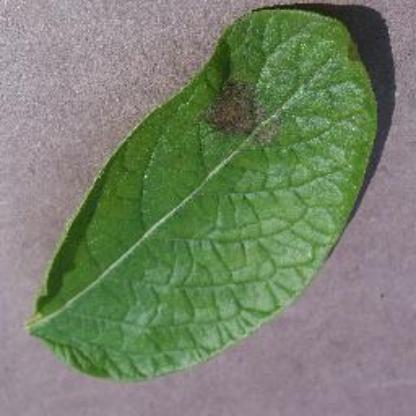Late-Blight: (27, 11, 378, 388)
